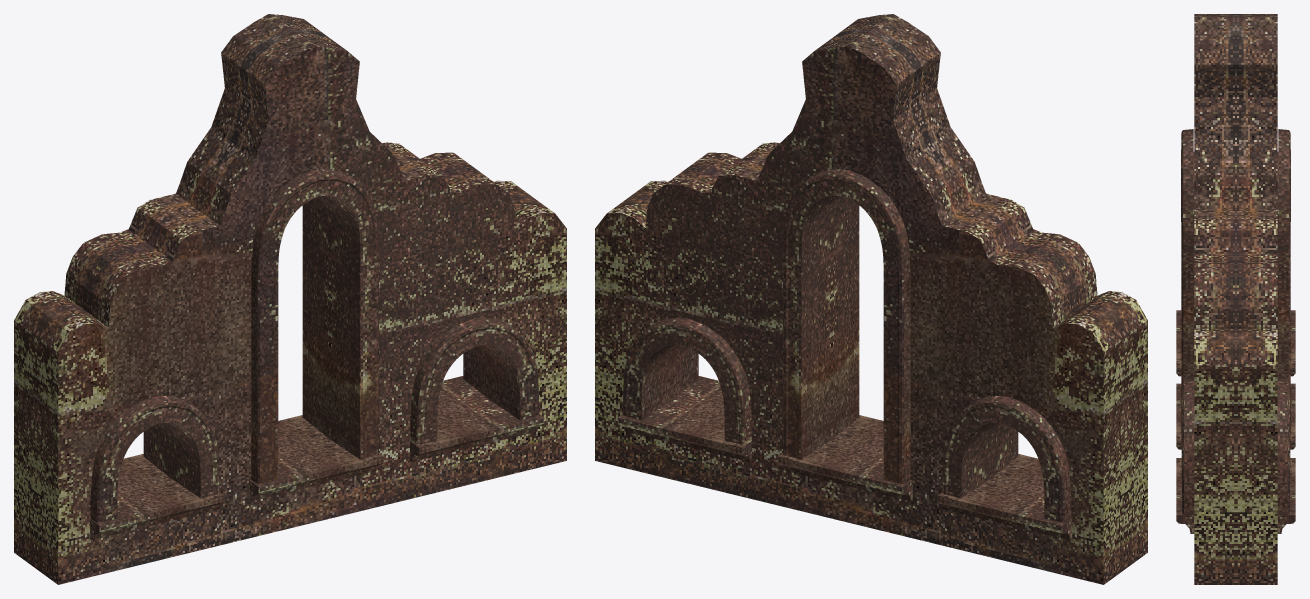
Rendered from Ruims6.fbx.
3 renders of one model, left to right at view 1: azimuth 30°, elevation 25°; view 2: azimuth 150°, elevation 25°; view 3: azimuth 270°, elevation 25°, orthographic. The views are drawn at different scales.
Parts seen in each view (by area): view 1: Plane.108; view 2: Plane.108; view 3: Plane.108.
Boxes of the visible parts, box(x1,y1,x2,y2) form: Plane.108: box(14, 14, 566, 584); Plane.108: box(595, 14, 1147, 584); Plane.108: box(1176, 14, 1295, 584).
Bounding box in the file's own units: 400 × 358 × 85.93.
